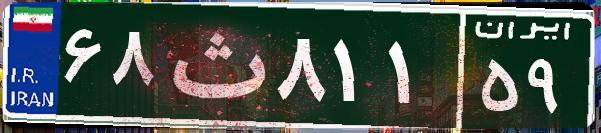1: (385, 28, 445, 110), (330, 28, 385, 110)
5: (475, 38, 525, 113)
6: (57, 26, 110, 107)
8: (273, 28, 330, 110), (110, 28, 158, 105)
9: (525, 38, 570, 115)
ث: (158, 15, 273, 115)
